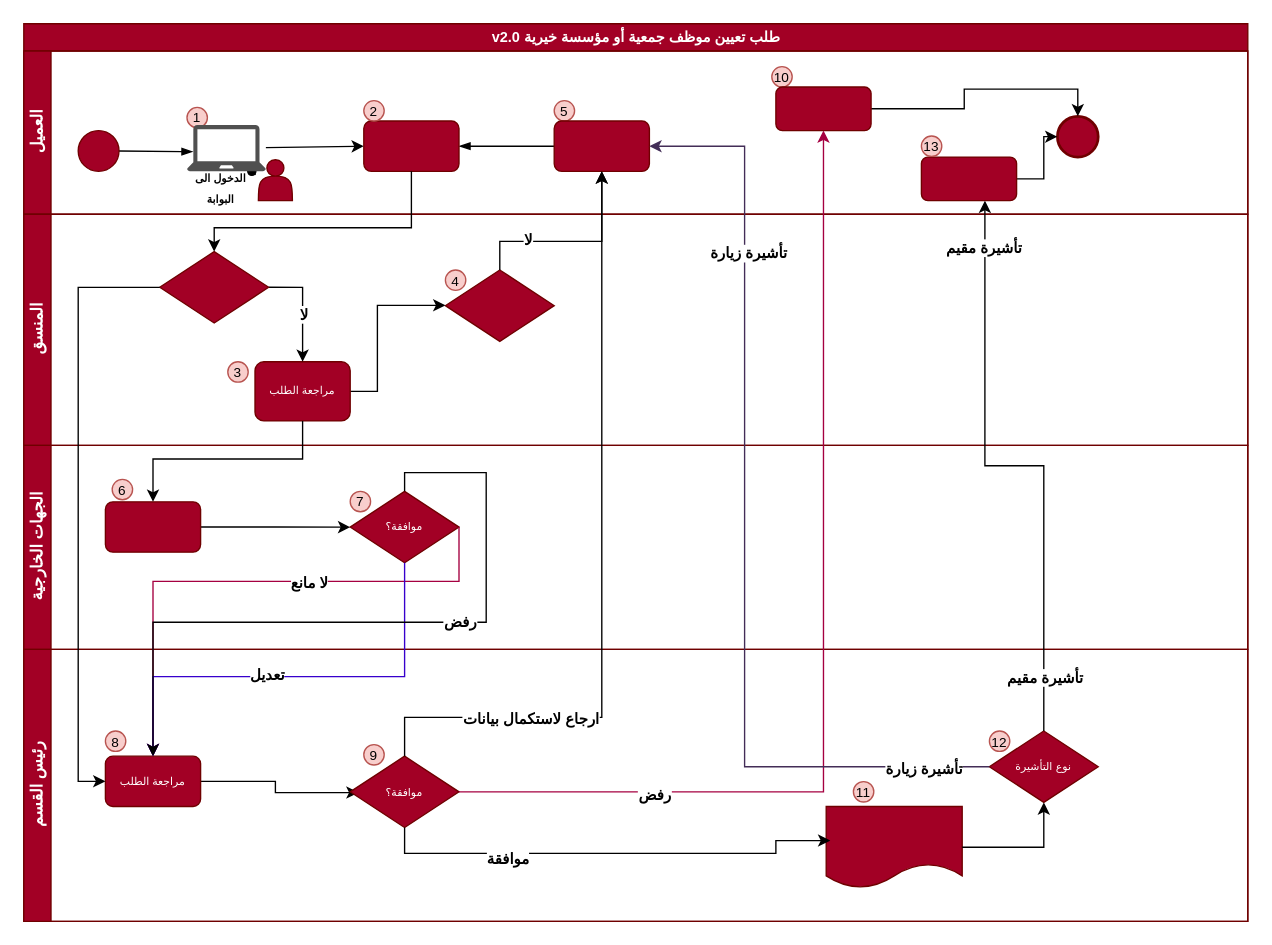
The diagram is 1272 pixels wide and 945 high, and some of its shapes have lost their labels. The centre of each missing label's shape, as x and y in pixels:
"ارسال رسالة إعتذار" belongs at point (823, 108).
"استكمال البيانات المطلوبة و اعادة الارسال" belongs at point (601, 145).
"اصدار تصريح لطلب تعيين لموظف في الجمعية" belongs at point (893, 846).
"اغلاق" belongs at point (1077, 136).
"الطلب مكتمل؟" belongs at point (499, 305).
"بإرسال رسالة الاعتماد إلى العميل مرفق التصريح" belongs at point (968, 178).
"بداية" belongs at point (98, 150).
"تعبئة وتقديم نموذج الطلب" belongs at point (410, 145).
"مراجعة الطلب و اعطاء التوصيات" belongs at point (152, 526).
"من رئيس القسم؟ في حال مرجع من رئيسر القسم" belongs at point (213, 286).
